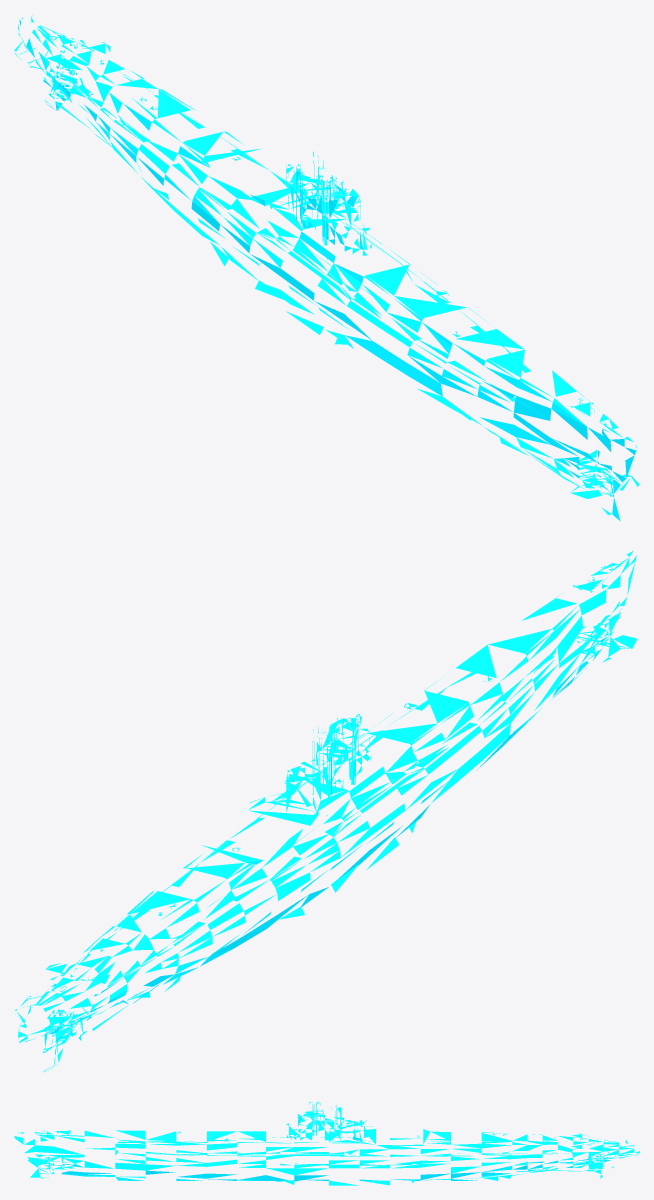
3 renders of one model, top to bottom at view 1: azimuth 30°, elevation 25°; view 2: azimuth 150°, elevation 25°; view 3: azimuth 270°, elevation 25°, orthographic. The views are drawn at different scales.
Bounding box in the file's own units: 0.6194 × 0.9658 × 7.24.
